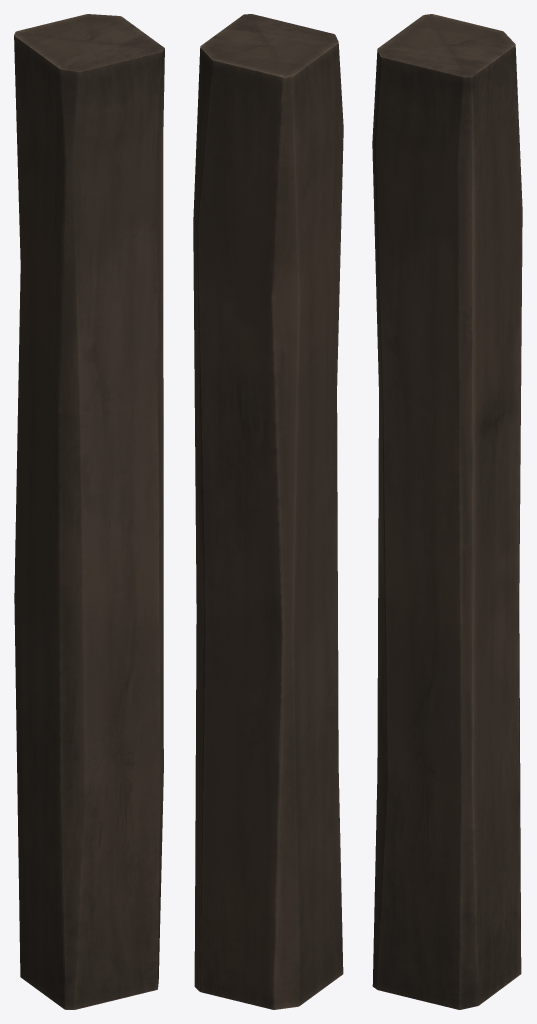
The model's file is pilar_1_test.fbx.
3 views of the same model, side by side, from view 1: azimuth 30°, elevation 25°; view 2: azimuth 150°, elevation 25°; view 3: azimuth 330°, elevation 25° (orthographic).
Visible parts, largest first — view 1: pillar_1_original.001; view 2: pillar_1_original.001; view 3: pillar_1_original.001.
Boxes of the visible parts, x1,y1,x2,y2 form: pillar_1_original.001: (14,14,164,1009); pillar_1_original.001: (193,14,343,1009); pillar_1_original.001: (372,14,522,1009).
Size of the model in its own units: 29.62 by 29.94 by 268.
1 material, 1 textured.
